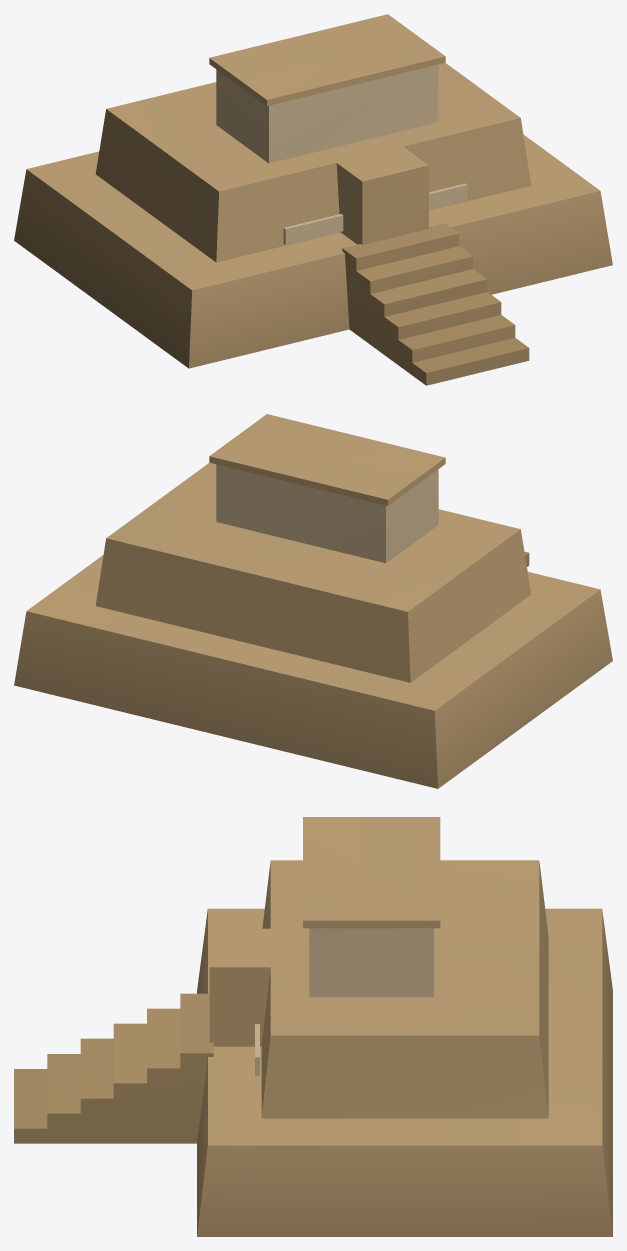
The model's file is moche_platform_lod0.glb.
3 renders of one model, top to bottom at view 1: azimuth 30°, elevation 25°; view 2: azimuth 150°, elevation 25°; view 3: azimuth 270°, elevation 25°, orthographic. The views are drawn at different scales.
Parts seen in each view (by area): view 1: GEO-Arch_moche_platform_LOD0; view 2: GEO-Arch_moche_platform_LOD0; view 3: GEO-Arch_moche_platform_LOD0.
Part boxes in pixels (<box>): GEO-Arch_moche_platform_LOD0: <box>14,14,612,385</box>; GEO-Arch_moche_platform_LOD0: <box>14,414,612,788</box>; GEO-Arch_moche_platform_LOD0: <box>14,817,612,1236</box>.
Size of the model in its own units: 14 by 6.5 by 14.4.
